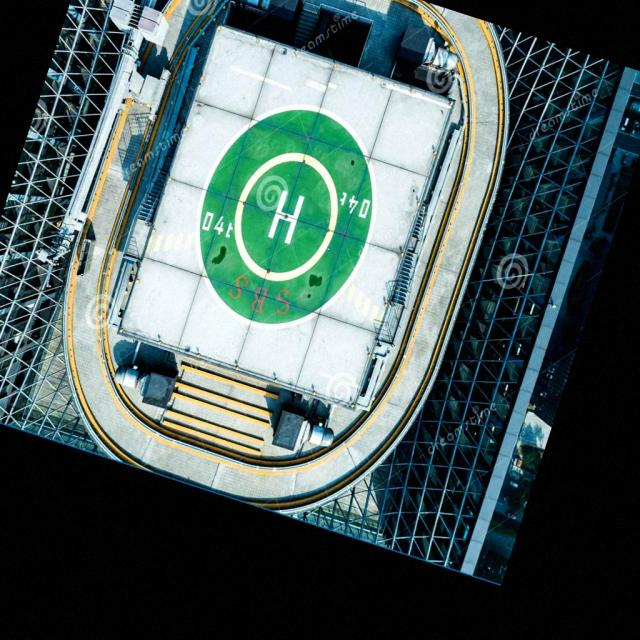helipad: (231, 149, 340, 283)
